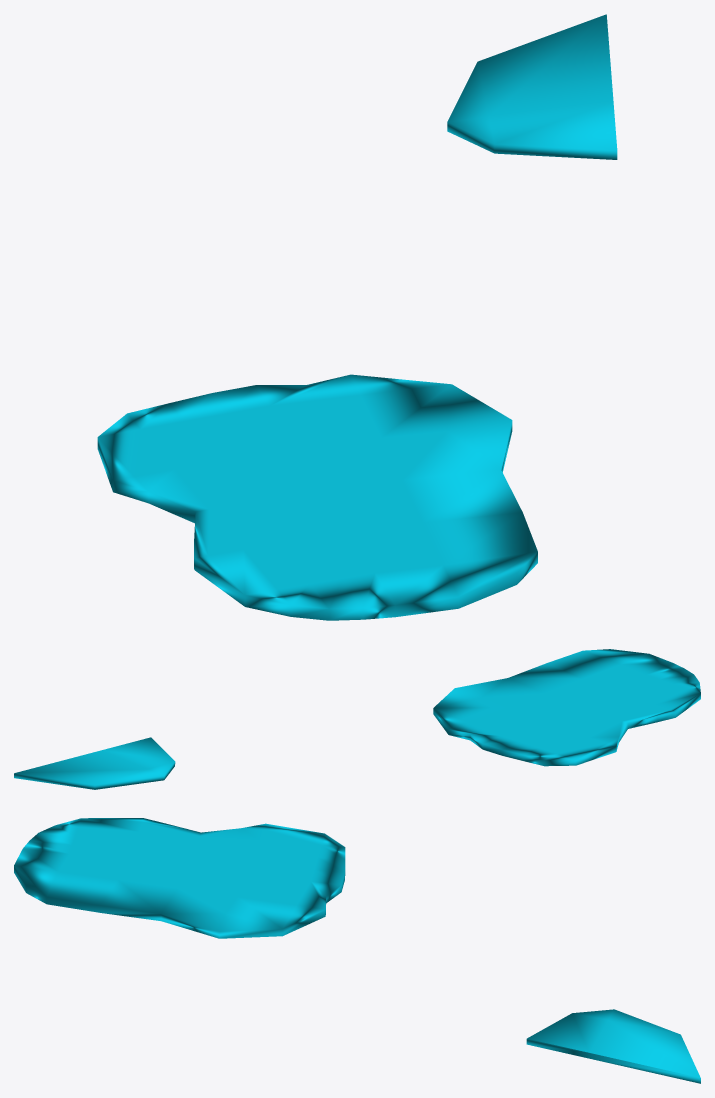
The model's file is zonadinosaurios agua.fbx.
The picture shows the model from 3 angles, top to bottom: view 1: azimuth 30°, elevation 25°; view 2: azimuth 150°, elevation 25°; view 3: azimuth 270°, elevation 25°; orthographic projection. The views are drawn at different scales.
Visible parts, largest first — view 1: Plane.005; view 2: Plane.005; view 3: Plane.005.
Boxes of the visible parts, x1,y1,x2,y2 form: Plane.005: (97,14,617,620); Plane.005: (14,649,700,789); Plane.005: (14,818,700,1083).
Bounding box in the file's own units: 7052 × 91.95 × 7901.
